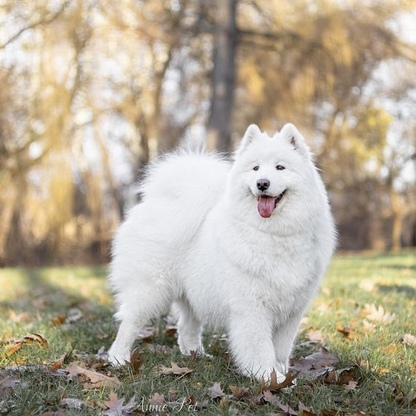samoyed: (93, 116, 345, 393)
